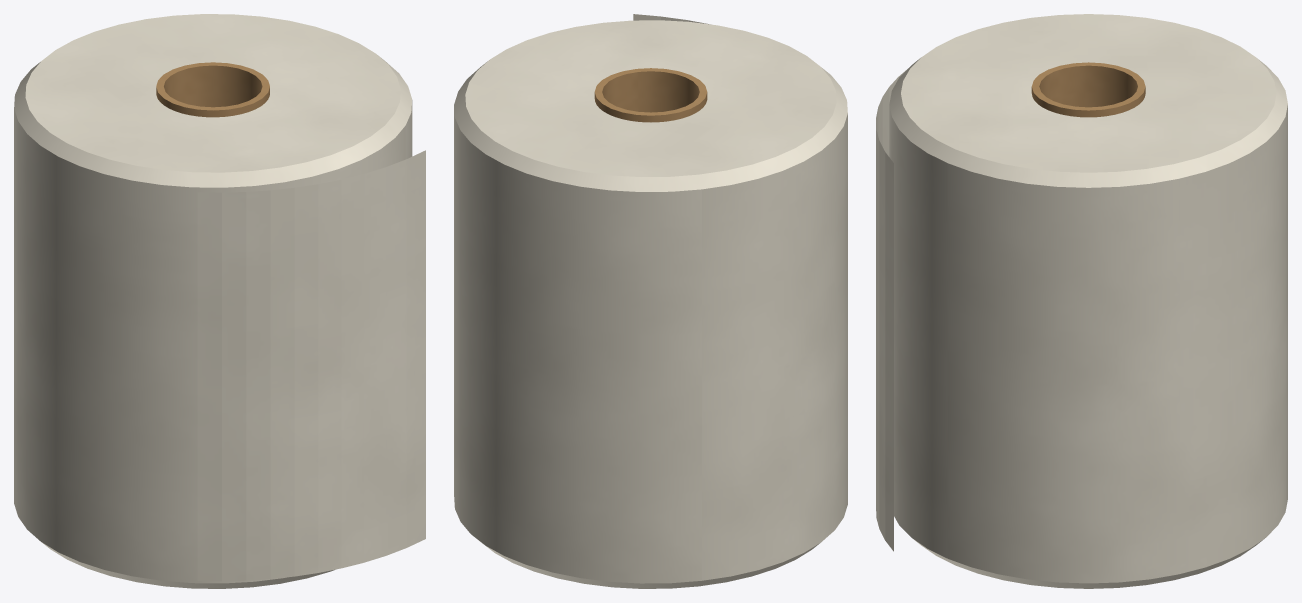
The model's file is toilet_paper.glb.
3 renders of one model, left to right at view 1: azimuth 30°, elevation 25°; view 2: azimuth 150°, elevation 25°; view 3: azimuth 270°, elevation 25°, orthographic.
Visible parts, largest first — view 1: ToiletPaperBody; view 2: ToiletPaperBody; view 3: ToiletPaperBody.
Part boxes in pixels (x1=…): ToiletPaperBody: x1=14, y1=14, x2=425, y2=588; ToiletPaperBody: x1=454, y1=14, x2=847, y2=588; ToiletPaperBody: x1=876, y1=14, x2=1287, y2=588.
Size of the model in its own units: 0.21 by 0.25 by 0.2171.
Materials: 2 (2 with a texture image).
